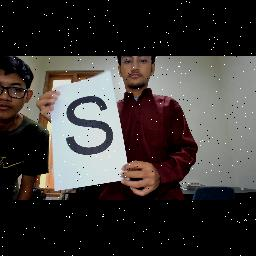s: (60, 94, 120, 166)
